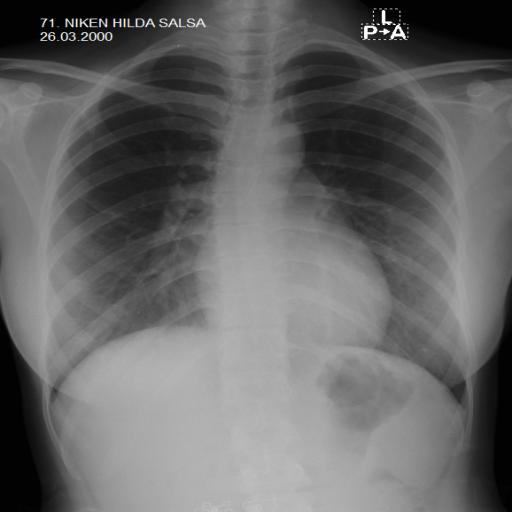normal: (40, 20, 482, 438)
